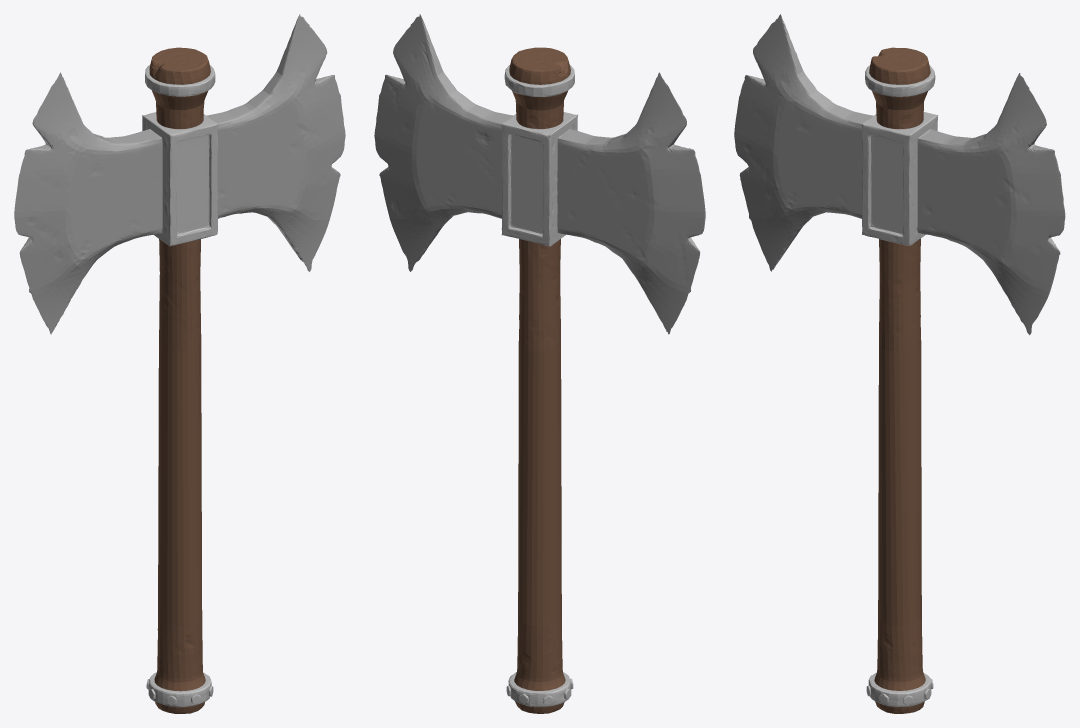
File: Hache.fbx
The picture shows the model from 3 angles, left to right: view 1: azimuth 30°, elevation 25°; view 2: azimuth 150°, elevation 25°; view 3: azimuth 330°, elevation 25°; orthographic projection.
Visible parts, largest first — view 1: Low; view 2: Low; view 3: Low.
Part boxes in pixels (box(x1,y1,x2,y2)): Low: box(14, 14, 345, 713); Low: box(374, 14, 705, 713); Low: box(734, 14, 1065, 713).
Size of the model in its own units: 400 by 765 by 74.41.
